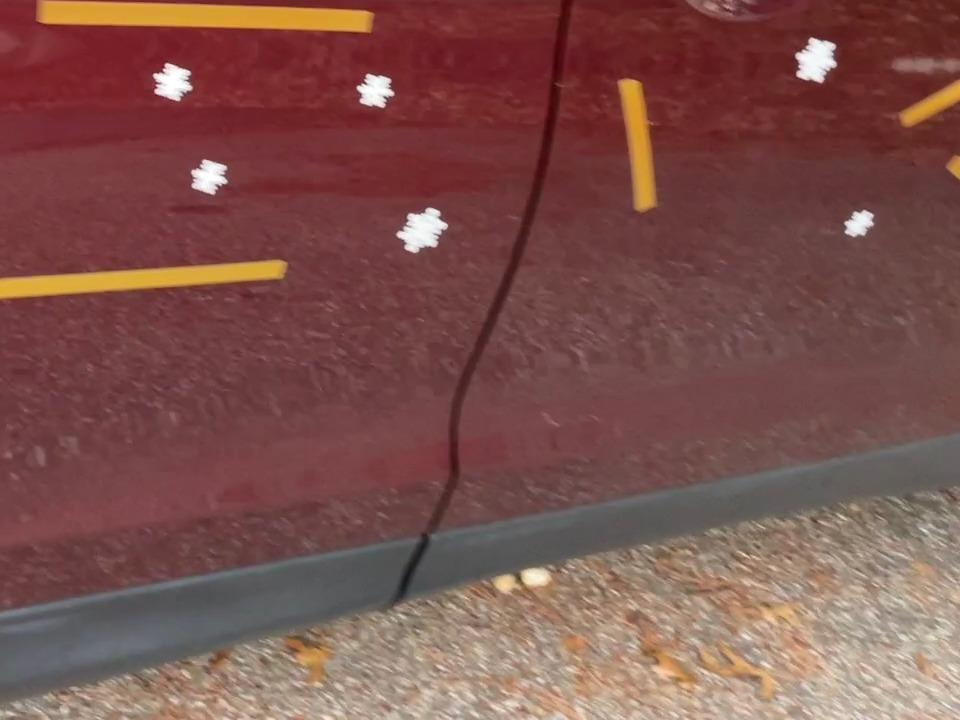dent: (785, 27, 853, 93), (395, 201, 457, 266), (147, 55, 201, 110), (183, 153, 235, 203), (349, 65, 402, 114), (837, 199, 887, 247)
scratch: (0, 248, 294, 313), (34, 0, 382, 46), (611, 73, 665, 219)
